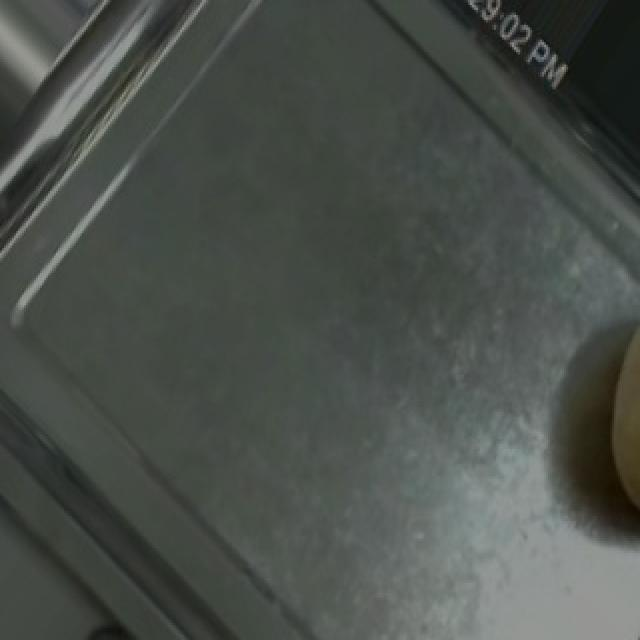Fruit: (584, 285, 640, 556)
